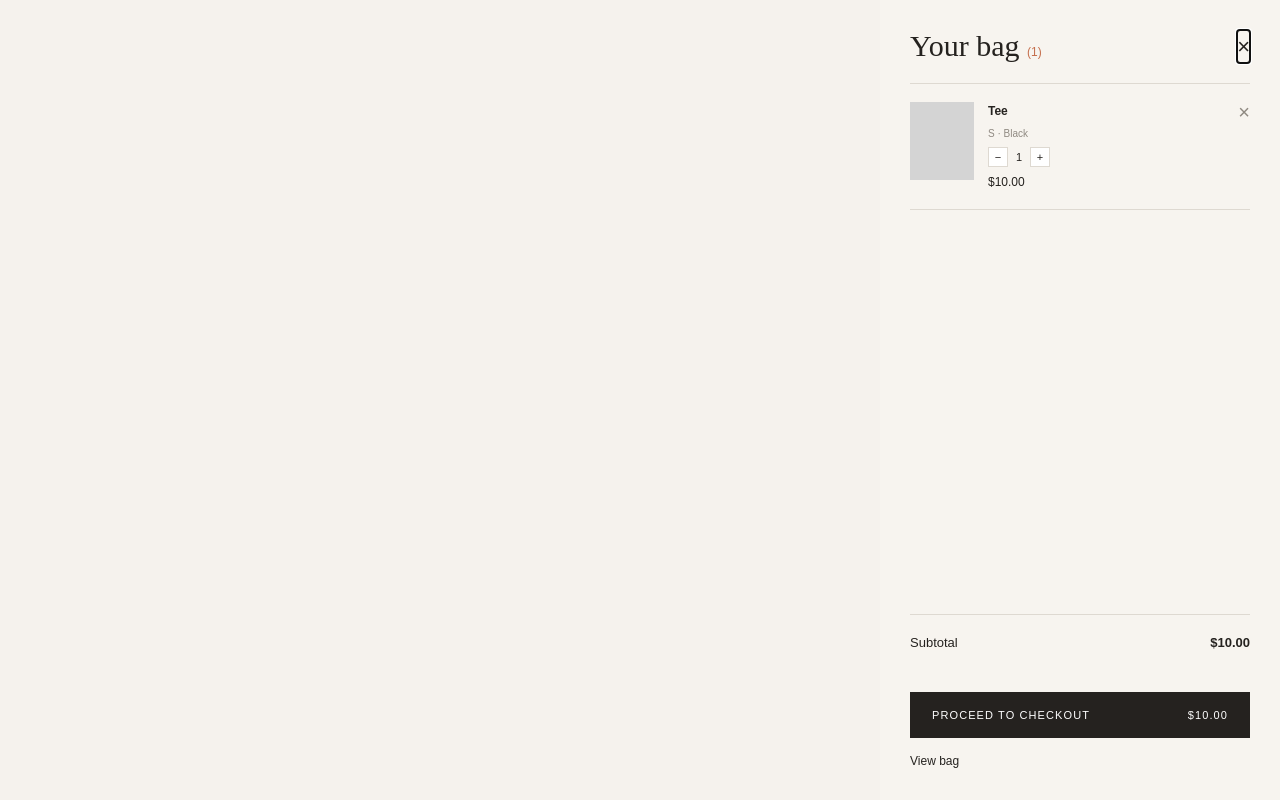
Test case: CartDrawer › changes quantity and removes lines through the shared bag logic
The width and height of the screenshot is (1280, 800).
Click the button named "Increase quantity for Tee". click: [1040, 157]
box: [1030,147,1050,167]
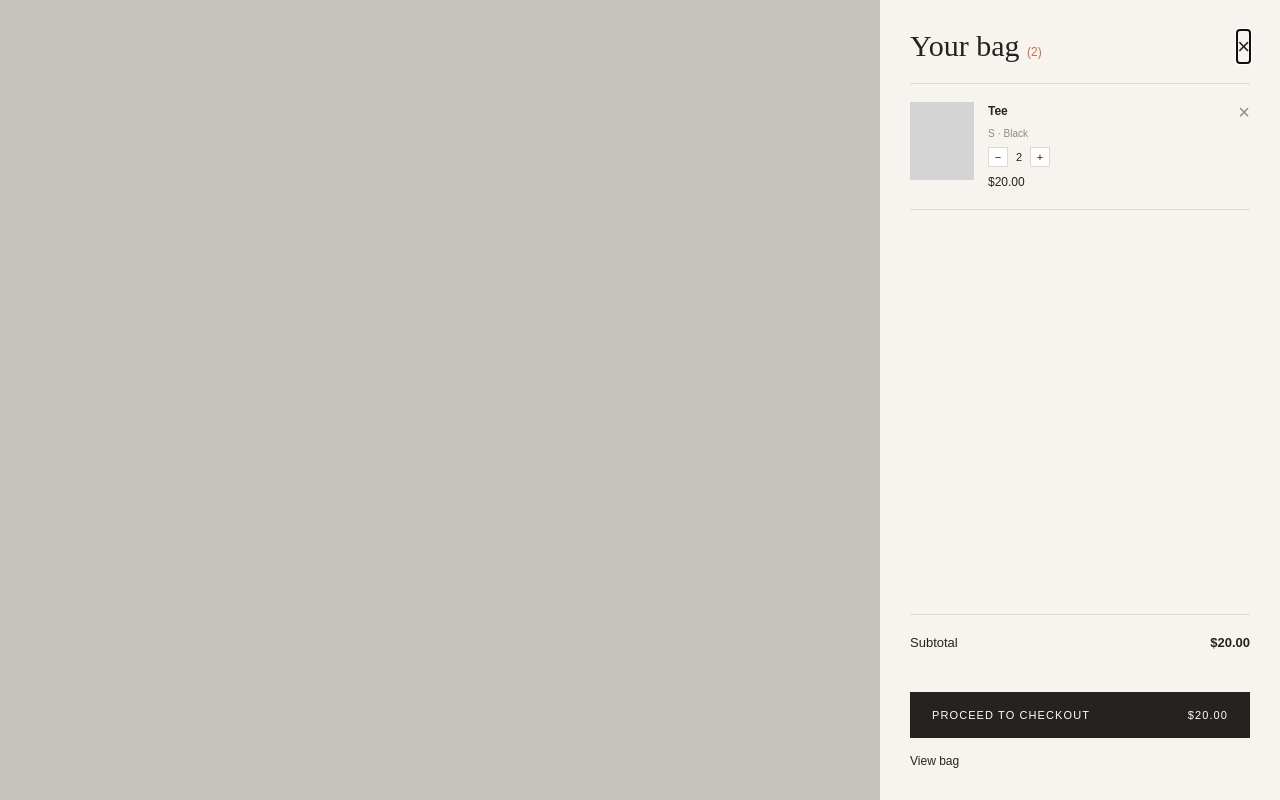
Click the button named "Remove Tee from bag". click: [1244, 112]
box: [1238,102,1250,122]
Wait 200 ms
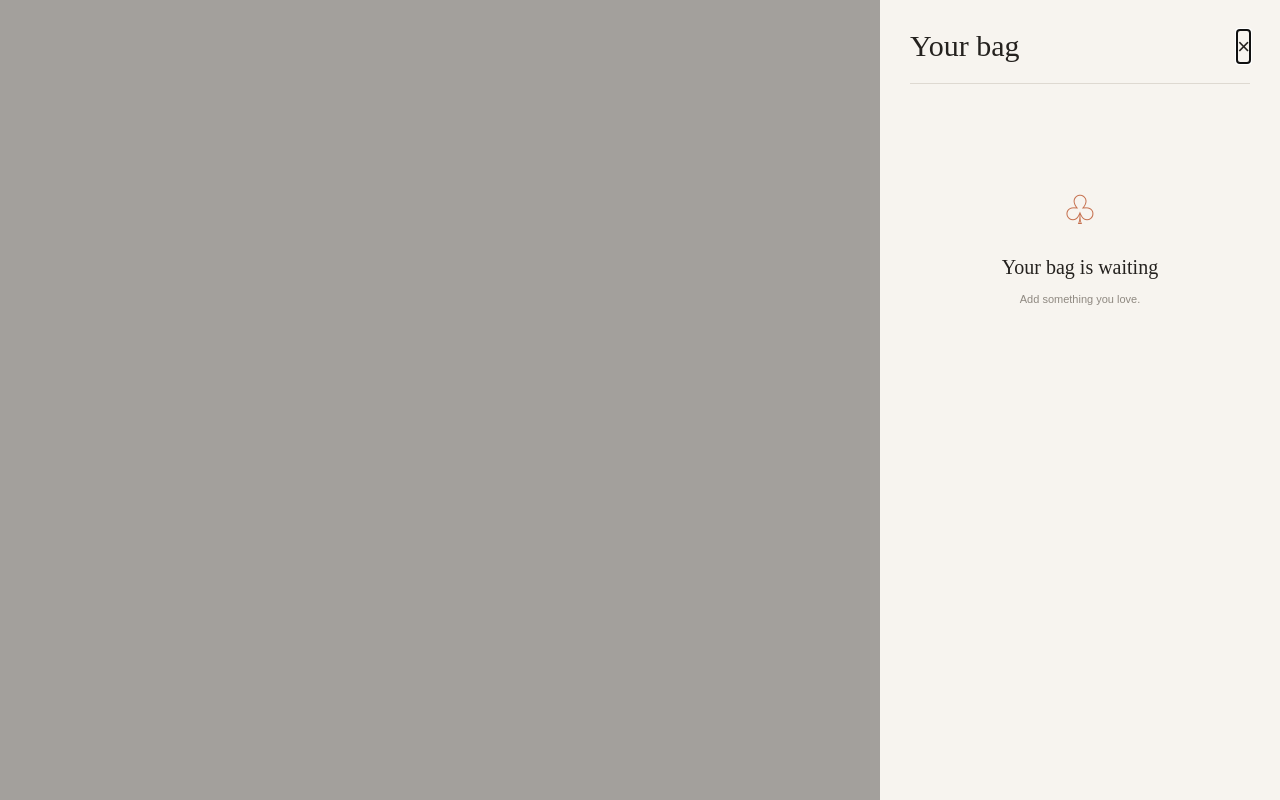
Expected: the text "Your bag is waiting" is shown, [1002,256,1158,278]
